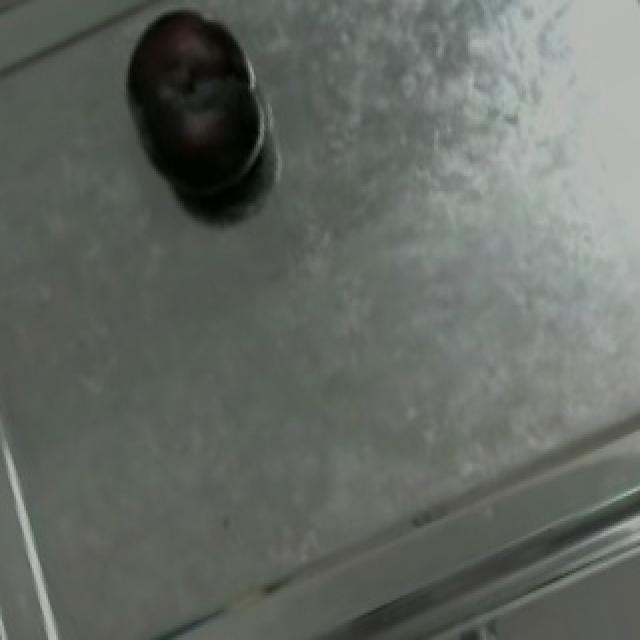Fruit: (108, 0, 270, 201)
